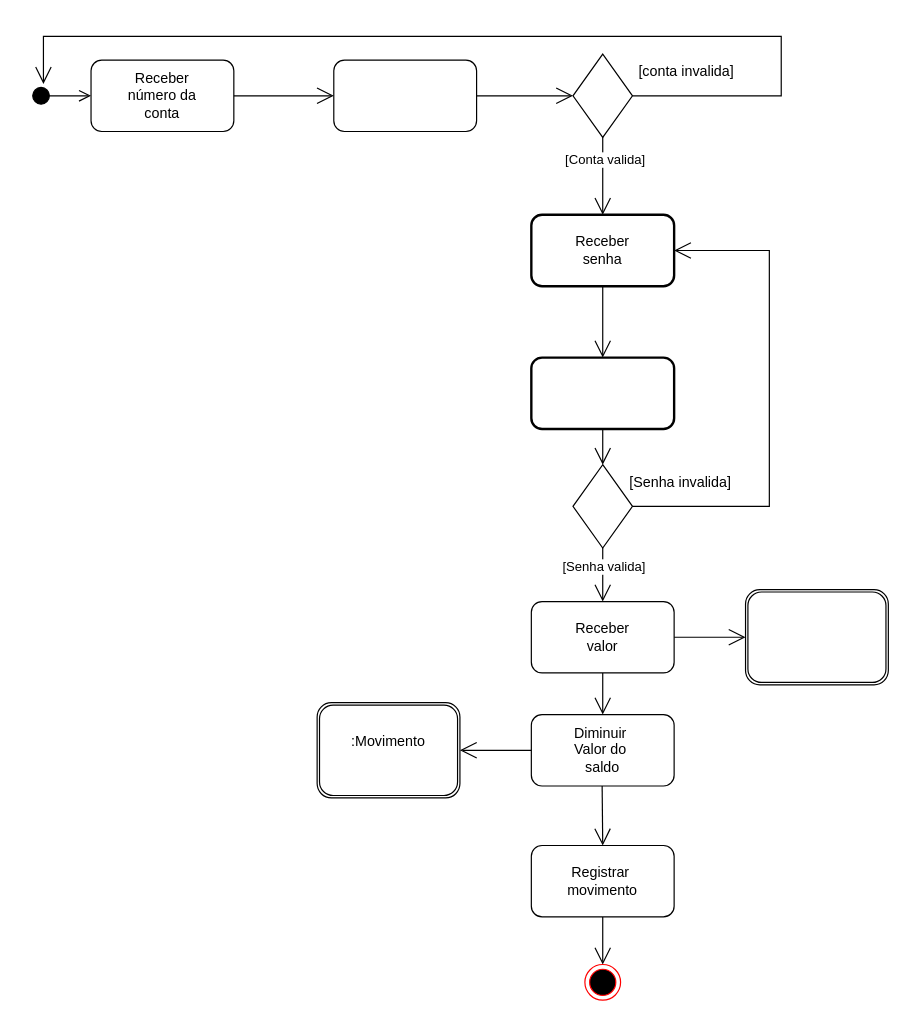
This 909x1021 diagram has some shape labels left out. Here are the shapes that lost their labels. From the top down, the box of each, then its label:
(333, 59, 477, 131): Consultar conta
(530, 356, 675, 430): Validar senha
(744, 588, 888, 685): :ContaComum
